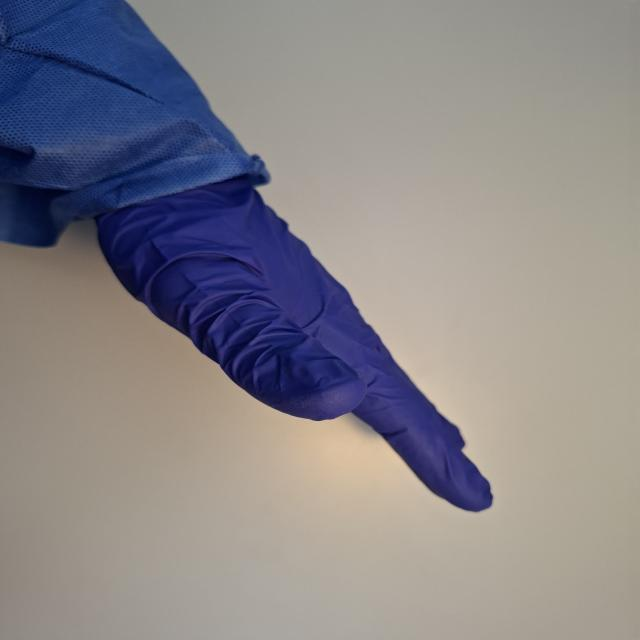glove_on: (90, 163, 500, 514)
